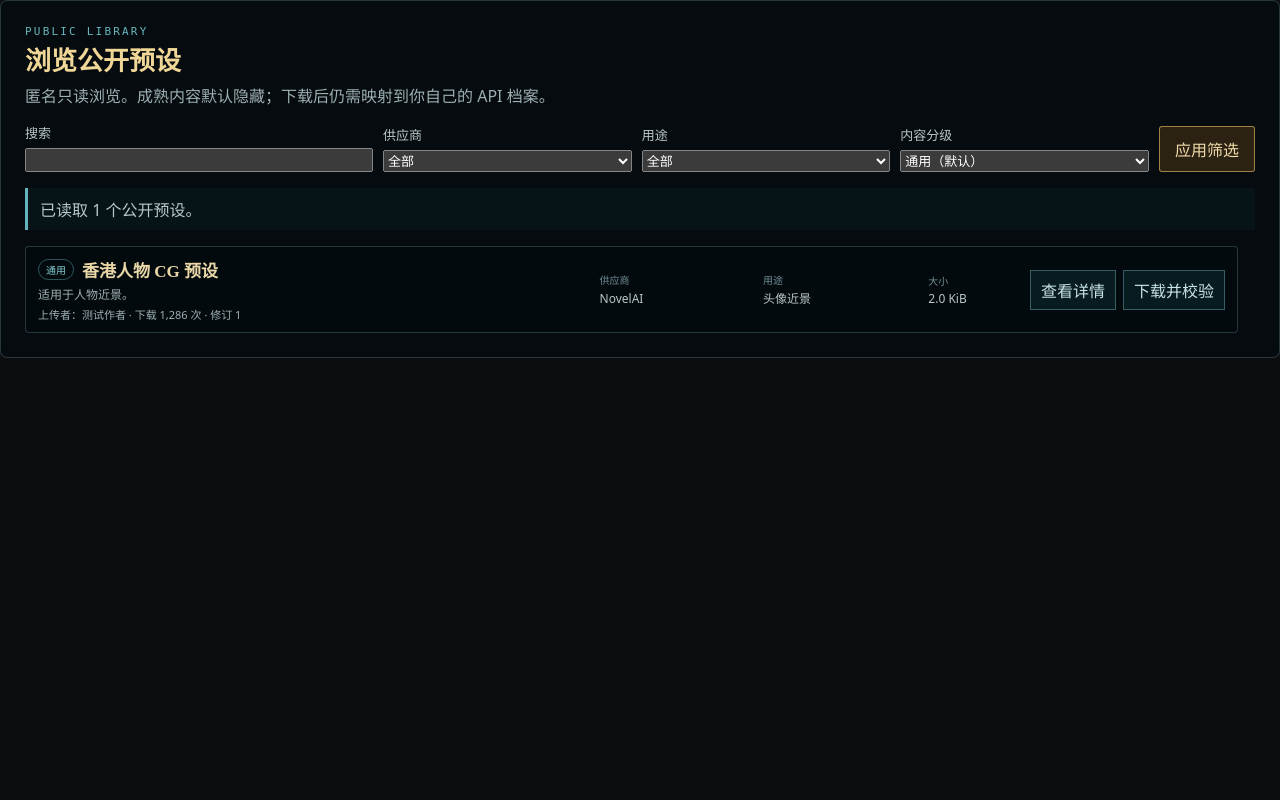
it: WorkshopBrowseScreen › browses anonymously, keeps mature hidden by default and opens details
This screenshot has width=1280, height=800.
Expected: the heading "香港人物 CG 预设" is shown, [82,257,218,282]
Expected: the list named "公开预设条目" is shown, [25,246,1255,333]
What coordinates should you click on to do the following:
click the button "查看详情"
I would click on:
 (1073, 290)
Its box is [1030,270,1116,310].
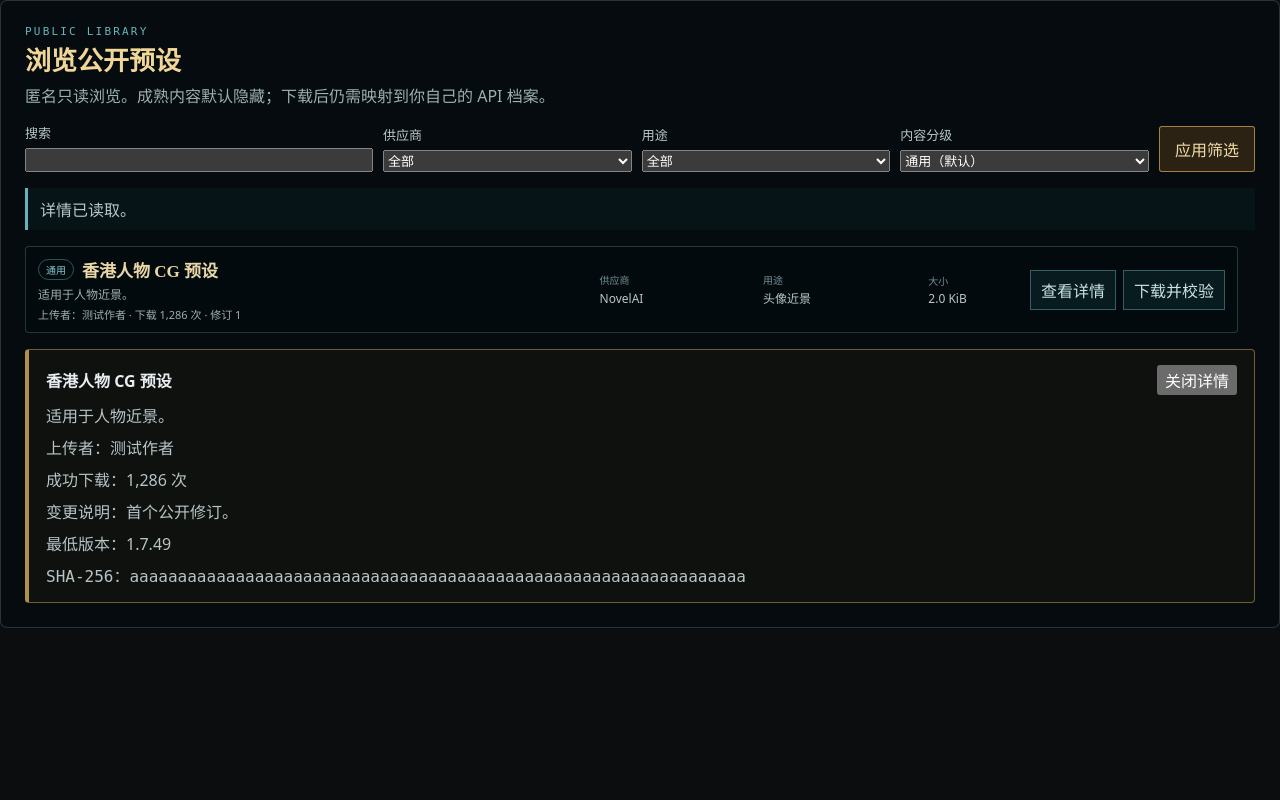
Expected: the text "上传者：测试作者" is shown, [46,437,174,459]
Expected: the text "成功下载：1,286 次" is shown, [46,469,187,491]
